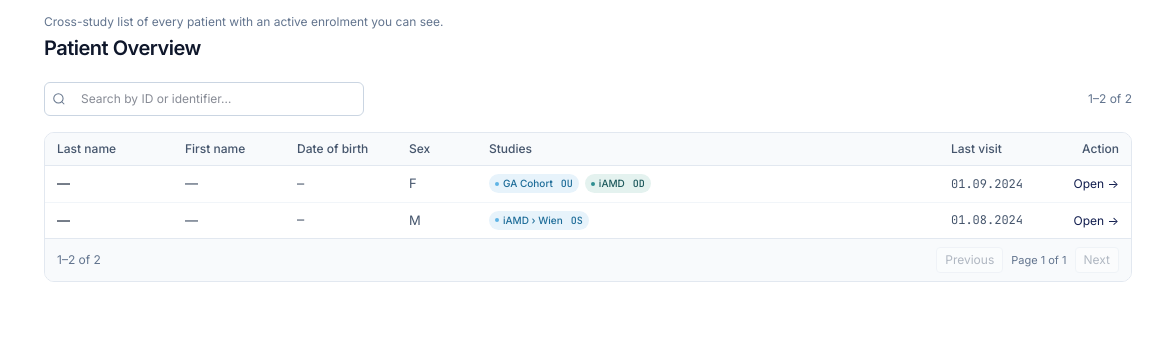
PatientsOverviewView › row click opens the detail modal scoped to the clicked subject
The width and height of the screenshot is (1149, 345).
Click the row with test id "patient-row-101".
click(588, 184)  # box [45,166,1131,202]
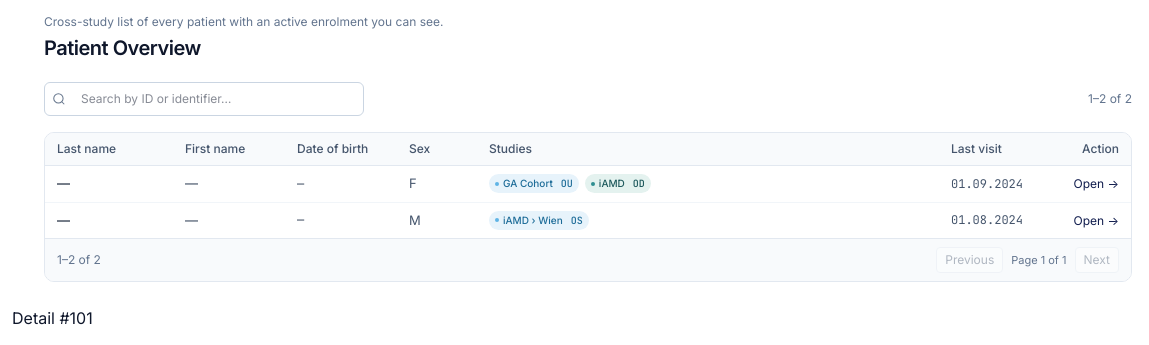
Now the text with test id "modal-stub" reads "Detail #101", box [12,308,93,328]
